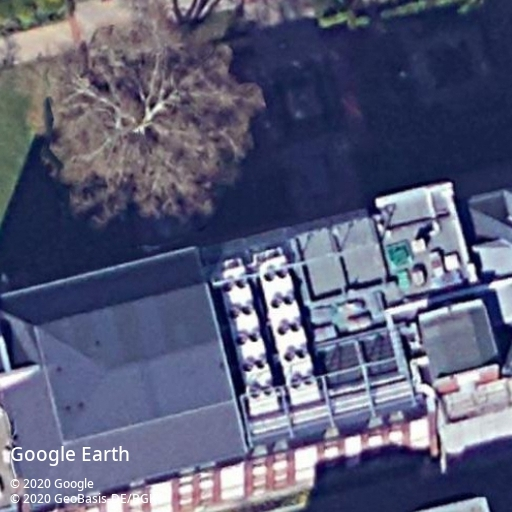Chiller: (258, 254, 322, 406), (220, 264, 279, 416)
